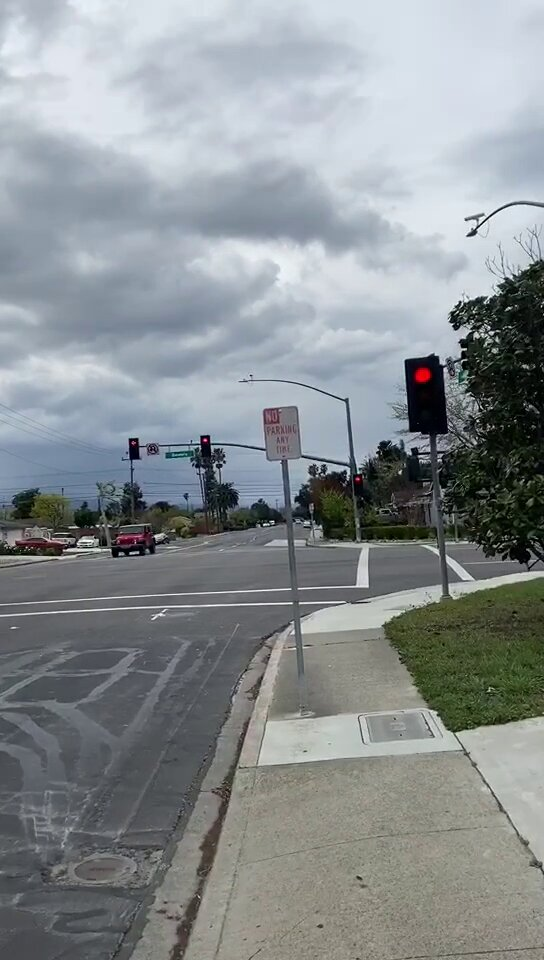red_light: (404, 358, 447, 434), (127, 436, 142, 460), (352, 474, 367, 496), (200, 432, 213, 456)
